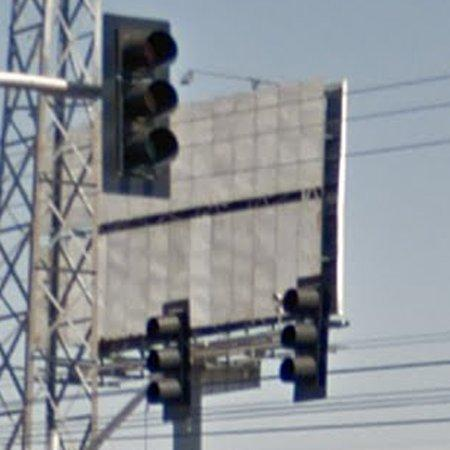traffic lights: (104, 14, 179, 198)
